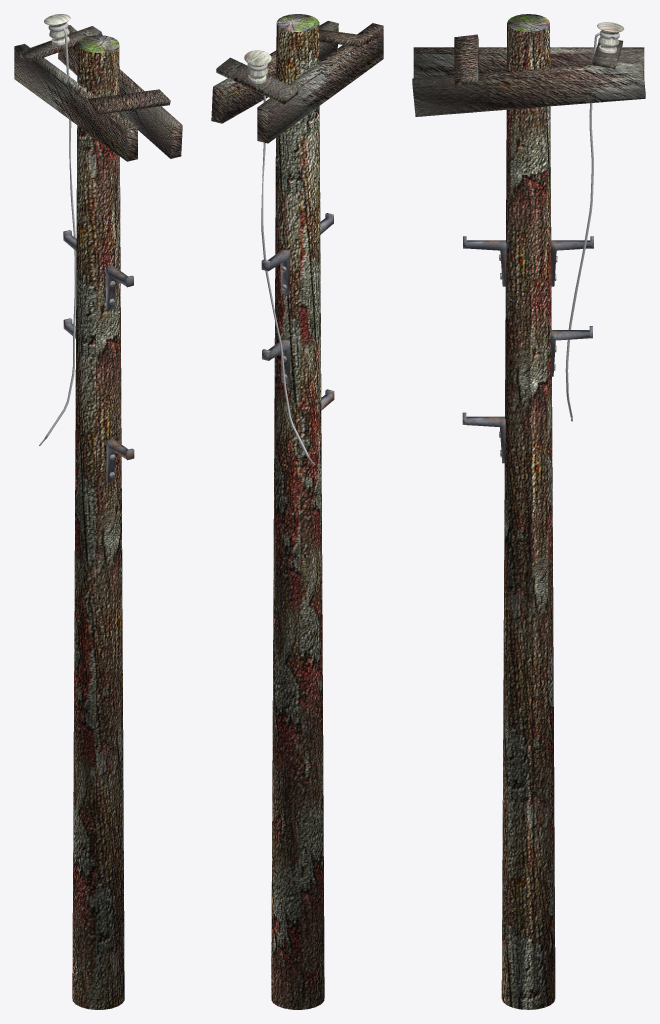
Rendered from TelegraphPole01.fbx.
The picture shows the model from 3 angles, left to right: view 1: azimuth 30°, elevation 25°; view 2: azimuth 150°, elevation 25°; view 3: azimuth 270°, elevation 25°; orthographic projection. The views are drawn at different scales.
Parts seen in each view (by area): view 1: default; view 2: default; view 3: default.
Boxes of the visible parts, x1,y1,x2,y2 form: default: (14, 14, 182, 1009); default: (211, 14, 383, 1009); default: (412, 14, 645, 1009).
Bounding box in the file's own units: 99.75 × 1199 × 260.
